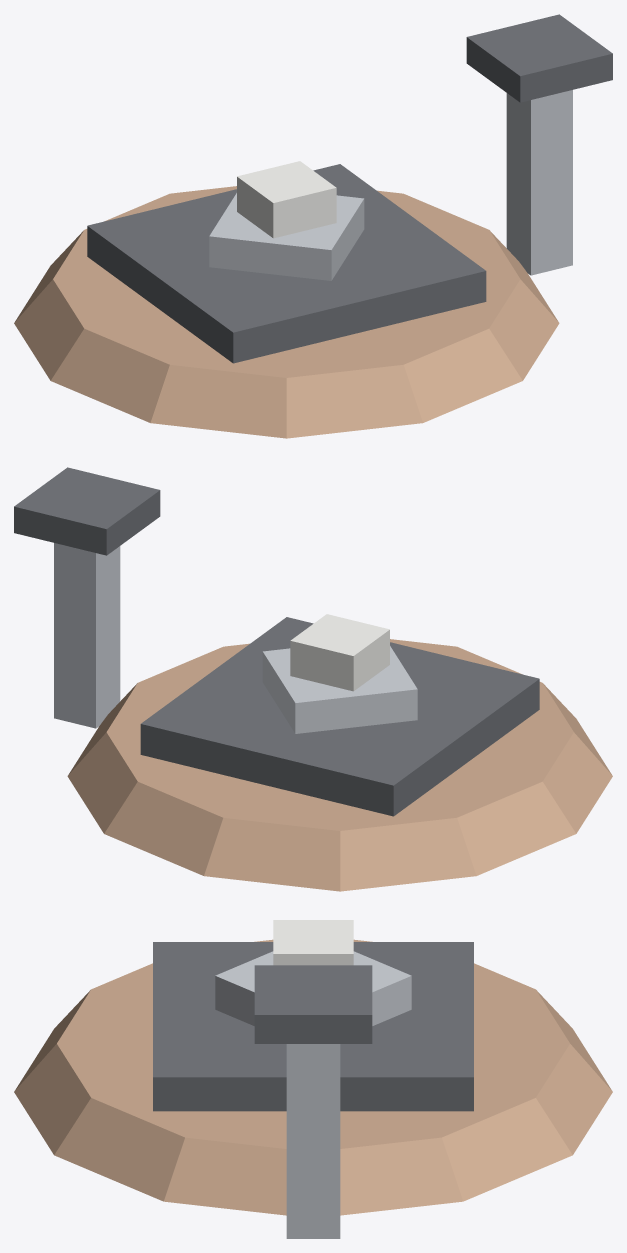
The model's file is baseball-park-and-batting-cages-base-anchor-48b47524__33780.glb.
3 views of the same model, one above another, from view 1: azimuth 30°, elevation 25°; view 2: azimuth 150°, elevation 25°; view 3: azimuth 270°, elevation 25° (orthographic). The views are drawn at different scales.
Parts seen in each view (by area): view 1: base-anchor; view 2: base-anchor; view 3: base-anchor.
Boxes of the visible parts, x1=… form: base-anchor: x1=14, y1=14, x2=612, y2=438; base-anchor: x1=14, y1=467, x2=612, y2=891; base-anchor: x1=14, y1=920, x2=612, y2=1238.
Size of the model in its own units: 0.635 by 0.245 by 0.56.
